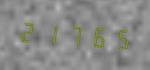five: (106, 22, 127, 53)
one: (40, 17, 61, 49)
seven: (62, 19, 83, 50)
six: (84, 20, 105, 52)
two: (18, 16, 39, 47)
